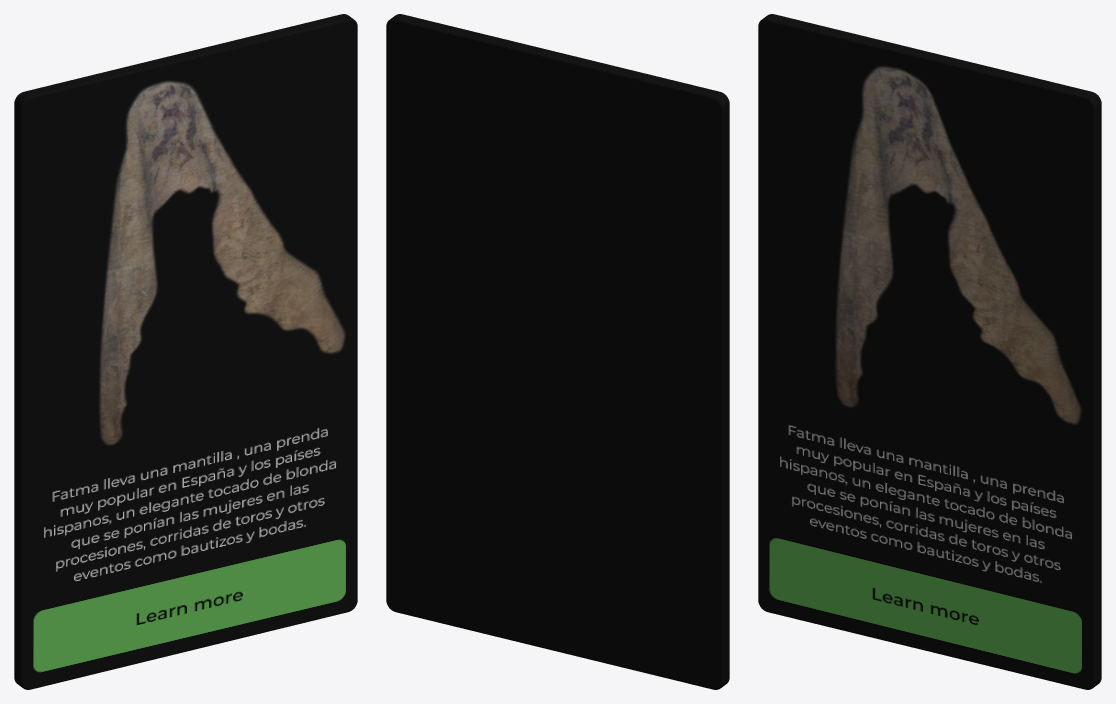
Rendered from Slide5.glb.
The picture shows the model from 3 angles, left to right: view 1: azimuth 30°, elevation 25°; view 2: azimuth 150°, elevation 25°; view 3: azimuth 330°, elevation 25°; orthographic projection.
Parts seen in each view (by area): view 1: Slide2; view 2: Slide2; view 3: Slide2.
Boxes of the visible parts, bbox=[...] form: Slide2: bbox=[14, 14, 357, 689]; Slide2: bbox=[386, 14, 729, 689]; Slide2: bbox=[758, 14, 1101, 689].
Bounding box in the file's own units: 1.49 × 2.5 × 0.0611.
Materials: 1 (1 with a texture image).
